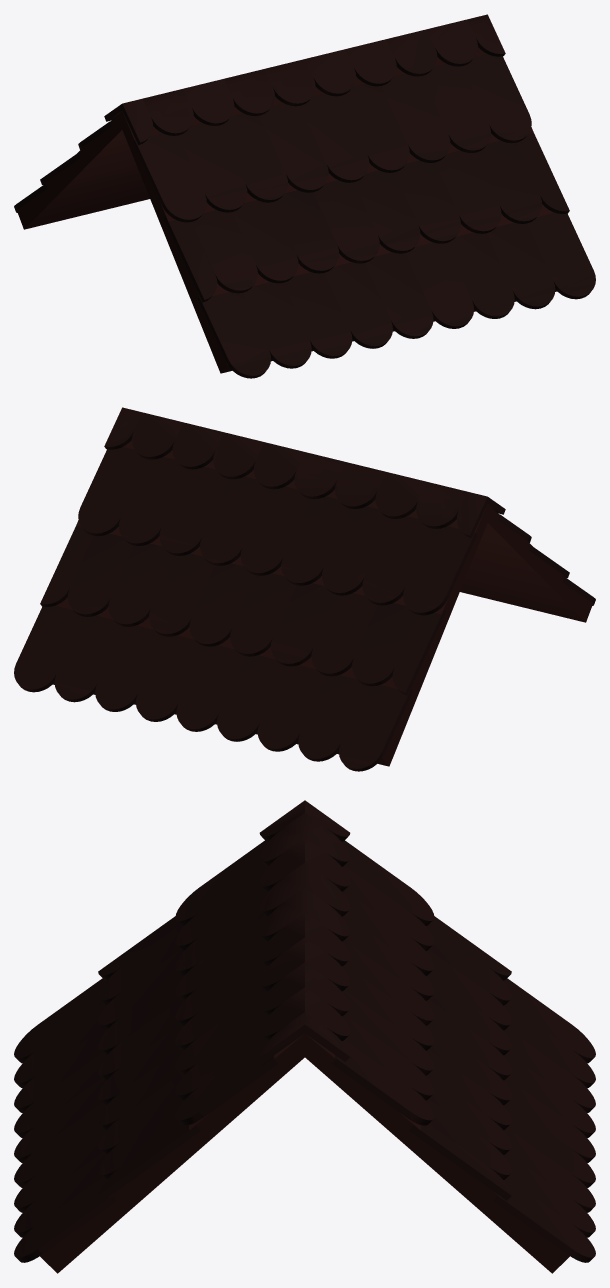
Rendered from Roof_Top.fbx.
3 renders of one model, top to bottom at view 1: azimuth 30°, elevation 25°; view 2: azimuth 150°, elevation 25°; view 3: azimuth 270°, elevation 25°, orthographic. The views are drawn at different scales.
Visible parts, largest first — view 1: Roof_Top; view 2: Roof_Top; view 3: Roof_Top.
Part boxes in pixels (x1,y1,x2,y2): Roof_Top: (14,14,595,378); Roof_Top: (14,407,595,771); Roof_Top: (14,800,595,1273).
Size of the model in its own units: 100 by 51.82 by 110.
